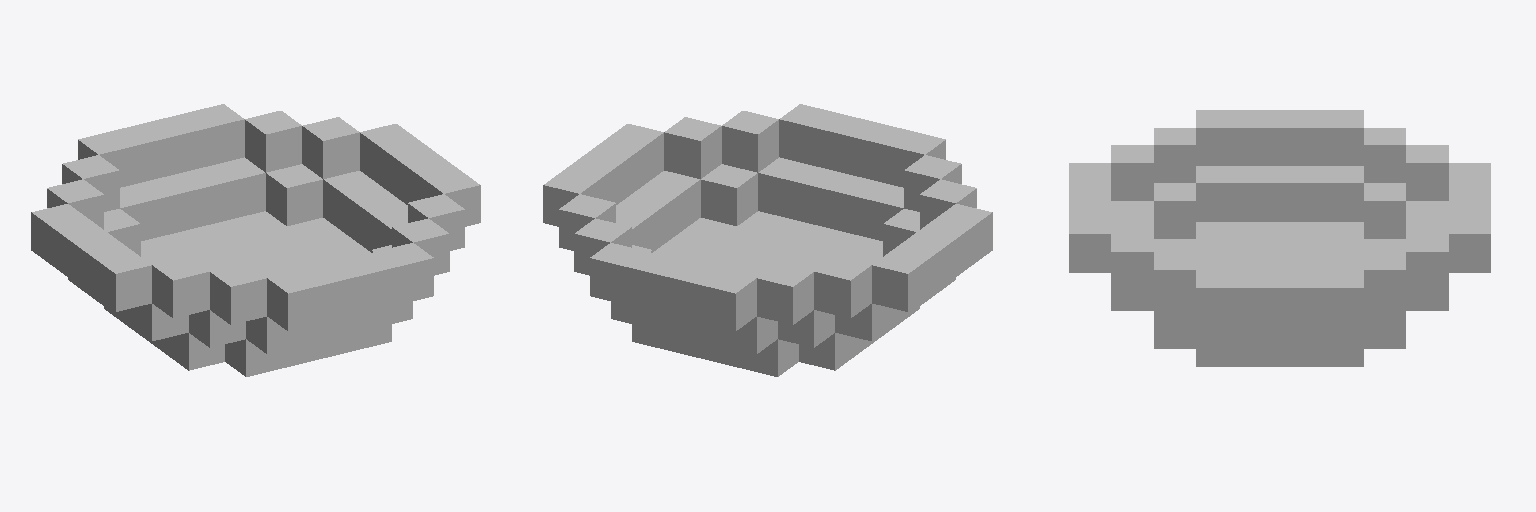
Rendered from cooking_wooden_bowl.obj.
3 renders of one model, left to right at view 1: azimuth 30°, elevation 25°; view 2: azimuth 150°, elevation 25°; view 3: azimuth 270°, elevation 25°, orthographic.
Visible parts, largest first — view 1: node_0_0_0; view 2: node_0_0_0; view 3: node_0_0_0.
Boxes of the visible parts, <box> form: node_0_0_0: <box>31,104,480,376</box>; node_0_0_0: <box>543,104,992,376</box>; node_0_0_0: <box>1069,110,1490,366</box>.
Size of the model in its own units: 0.625 by 0.1875 by 0.625.